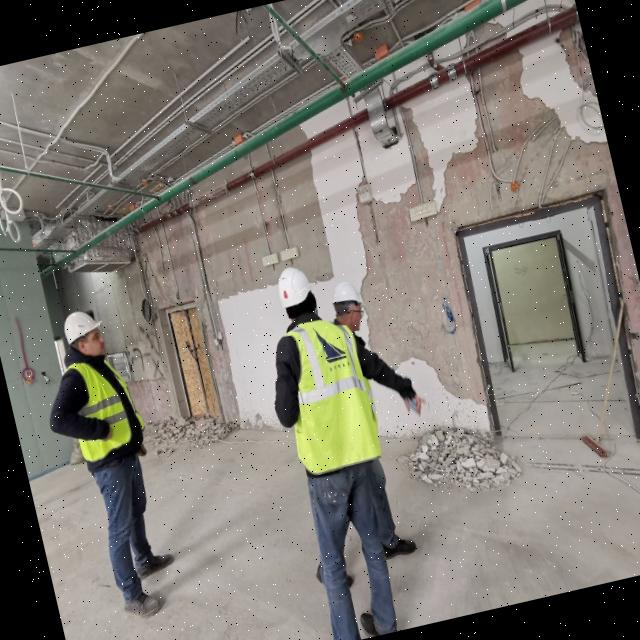Helmet: (60, 307, 109, 347), (274, 265, 314, 308), (330, 282, 364, 314)
Jacket: (279, 314, 382, 477), (65, 355, 146, 457)
